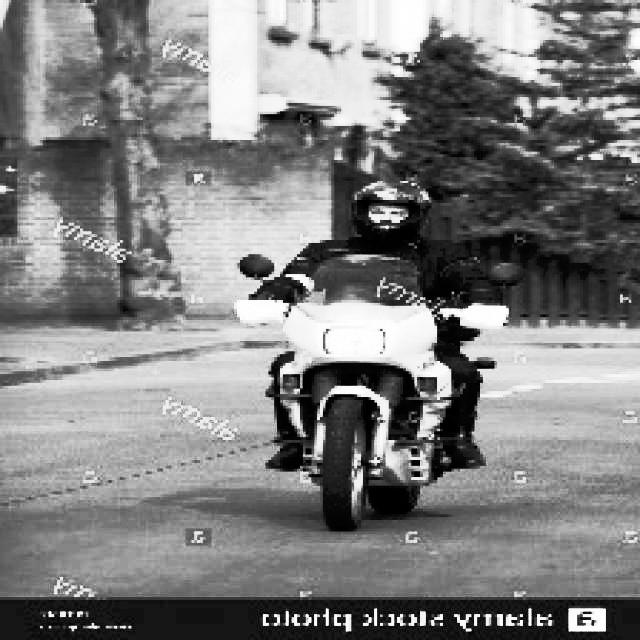Bike: (241, 270, 465, 530)
